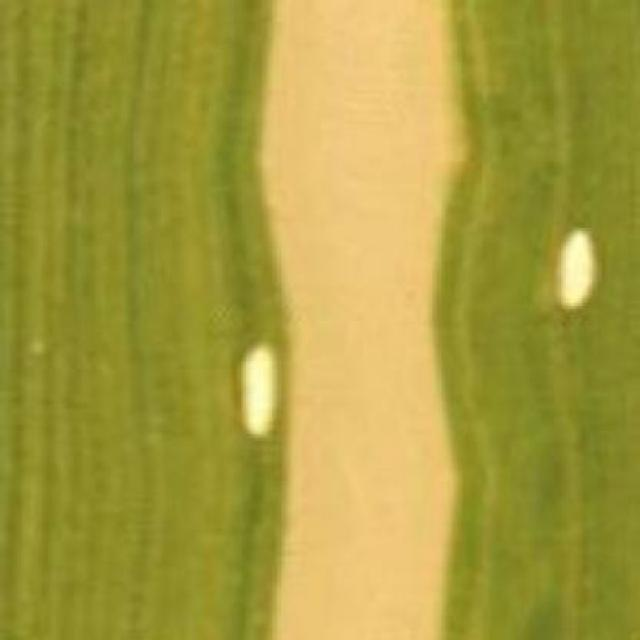whorl-maggot: (546, 212, 600, 322), (232, 335, 280, 457)
